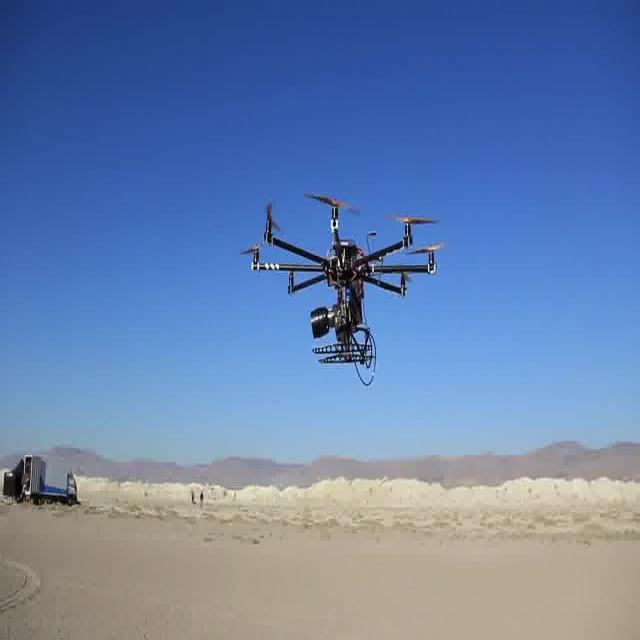Drone_FW: (240, 190, 444, 386)
